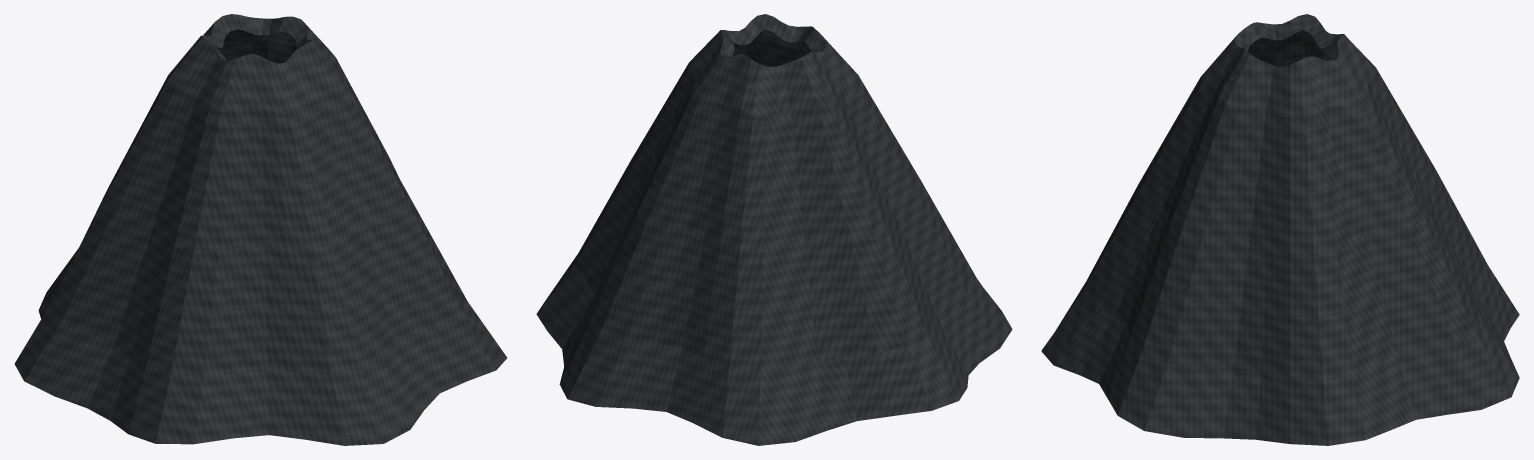
File: Volcano_Basalt_1.fbx
3 views of the same model, side by side, from view 1: azimuth 30°, elevation 25°; view 2: azimuth 150°, elevation 25°; view 3: azimuth 270°, elevation 25° (orthographic). The views are drawn at different scales.
Parts seen in each view (by area): view 1: Volcano_Basalt_1; view 2: Volcano_Basalt_1; view 3: Volcano_Basalt_1.
Part boxes in pixels (left/top/right/bottom): Volcano_Basalt_1: left=14, top=14, right=507, bottom=445; Volcano_Basalt_1: left=536, top=14, right=1012, bottom=445; Volcano_Basalt_1: left=1041, top=14, right=1519, bottom=445.
Size of the model in its own units: 27817 by 19800 by 27297.
1 material, 1 textured.
